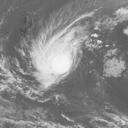cyclone: (35, 32, 76, 86)
